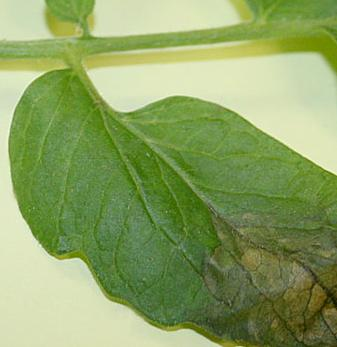Tomato leaf late blight: (4, 56, 337, 347)
